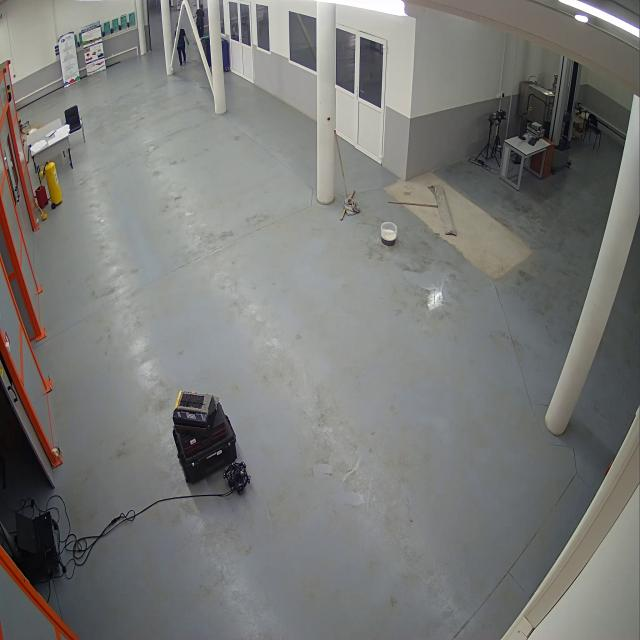NO-Hardhat: (198, 0, 204, 12)
Person: (175, 21, 192, 70), (192, 1, 210, 40)
